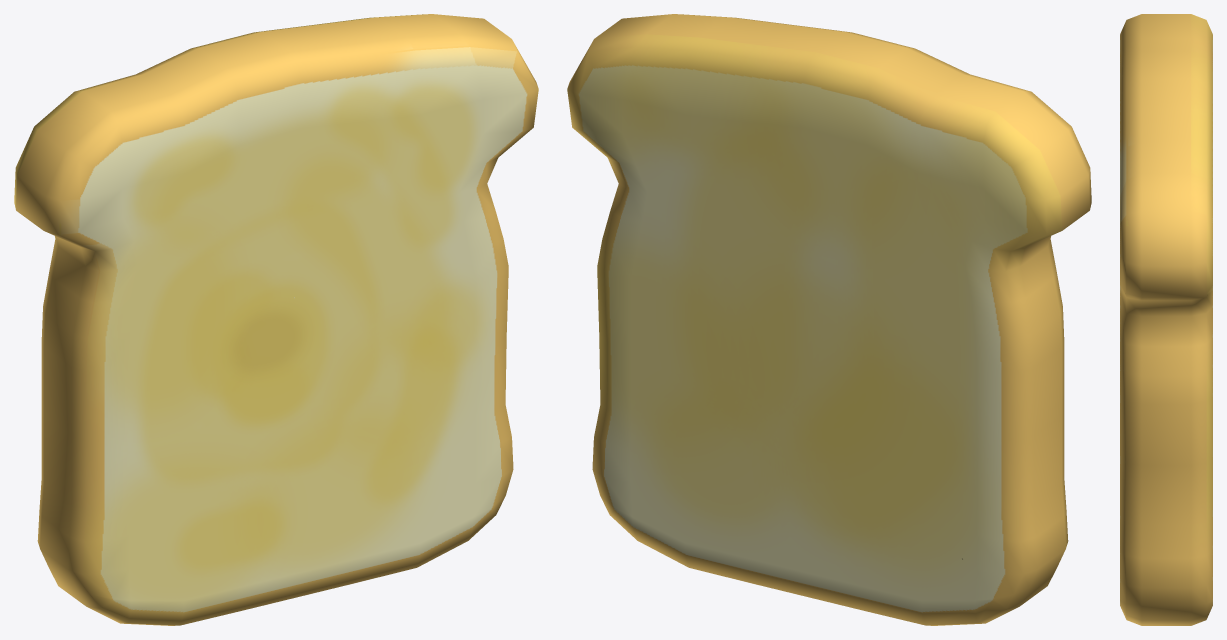
File: shnack.fbx
The picture shows the model from 3 angles, left to right: view 1: azimuth 30°, elevation 25°; view 2: azimuth 150°, elevation 25°; view 3: azimuth 270°, elevation 25°; orthographic projection. The views are drawn at different scales.
Visible parts, largest first — view 1: Plane; view 2: Plane; view 3: Plane.
Boxes of the visible parts, box(x1,y1,x2,y2) form: Plane: box(14, 14, 538, 625); Plane: box(567, 14, 1091, 625); Plane: box(1120, 14, 1212, 625).
Bounding box in the file's own units: 189 × 200 × 34.45.
1 material, 1 textured.
